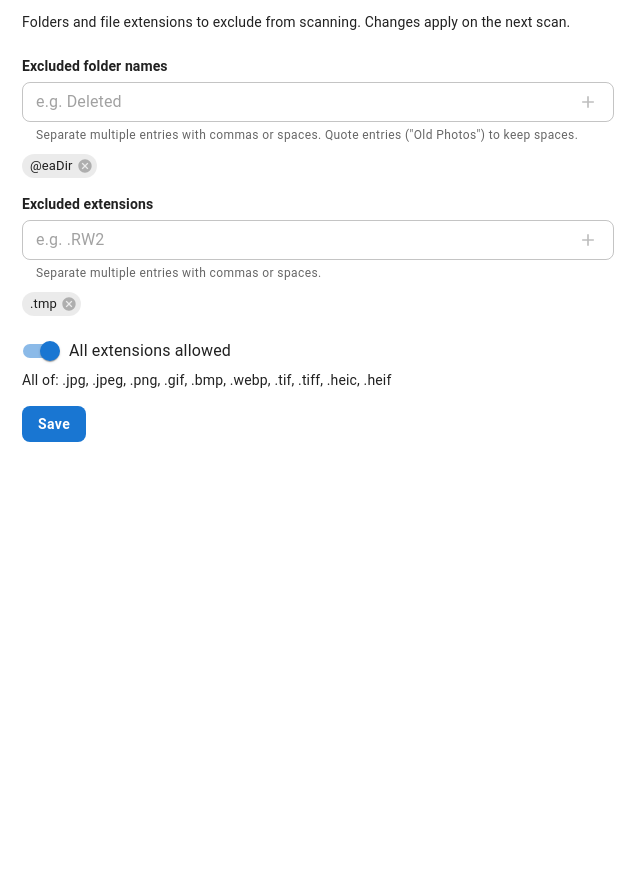
Test: SettingsPage › warns that the next scan will prune when a new exclusion is saved
In the field with placeholder "e.g. Deleted": (294, 102) [22,82,565,122], type "Thumbs.db"
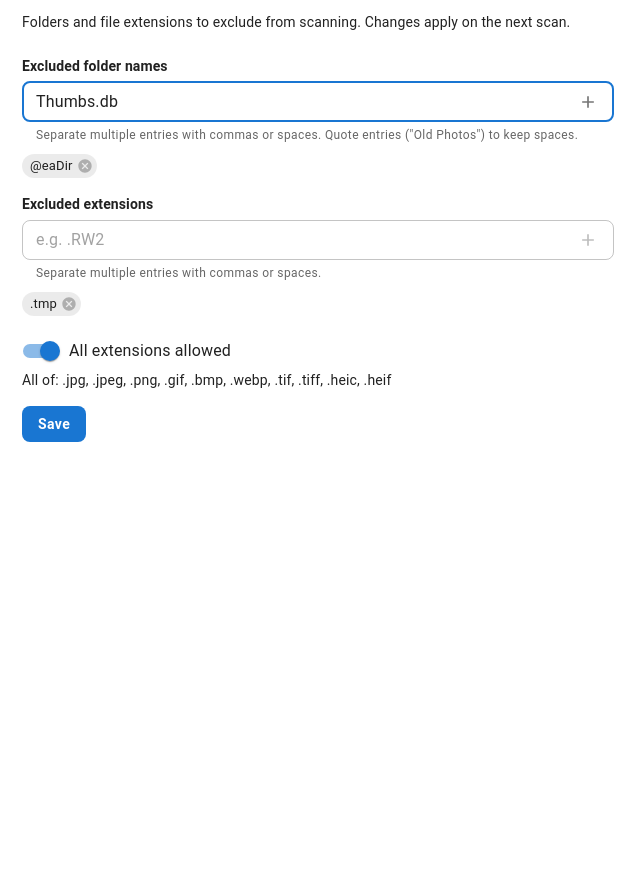
Click the button named "Add to Excluded folder names": (588, 102) [573,87,603,117]
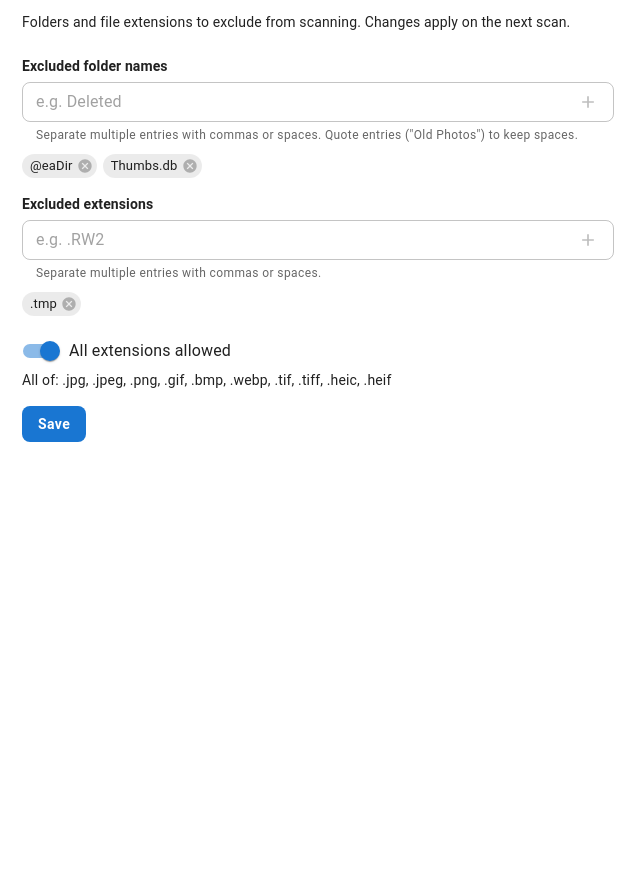
Click the button "Save": (54, 424) [22,406,86,442]
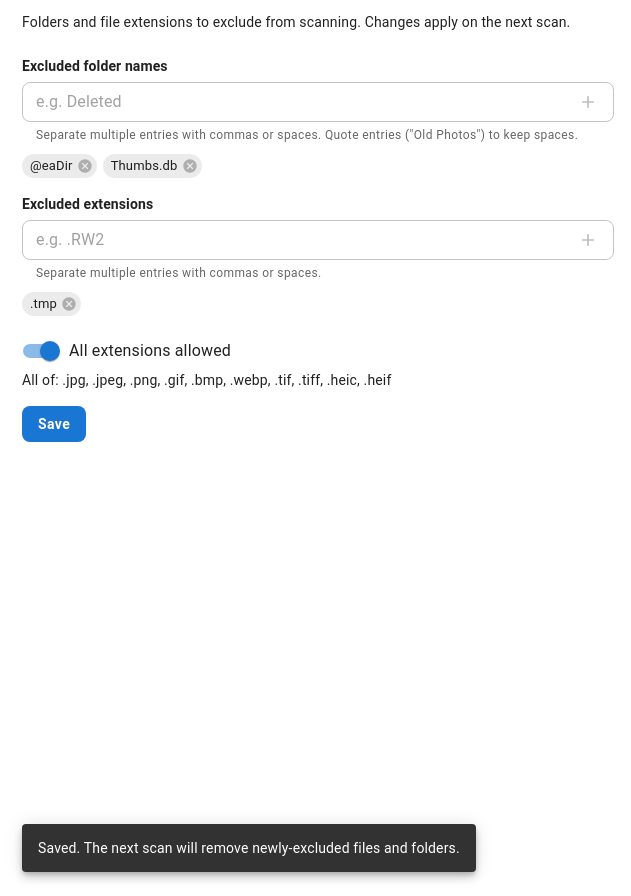
Expected: the text "Saved. The next scan will remove newly-excluded files and folders." is shown, [38,840,460,856]
